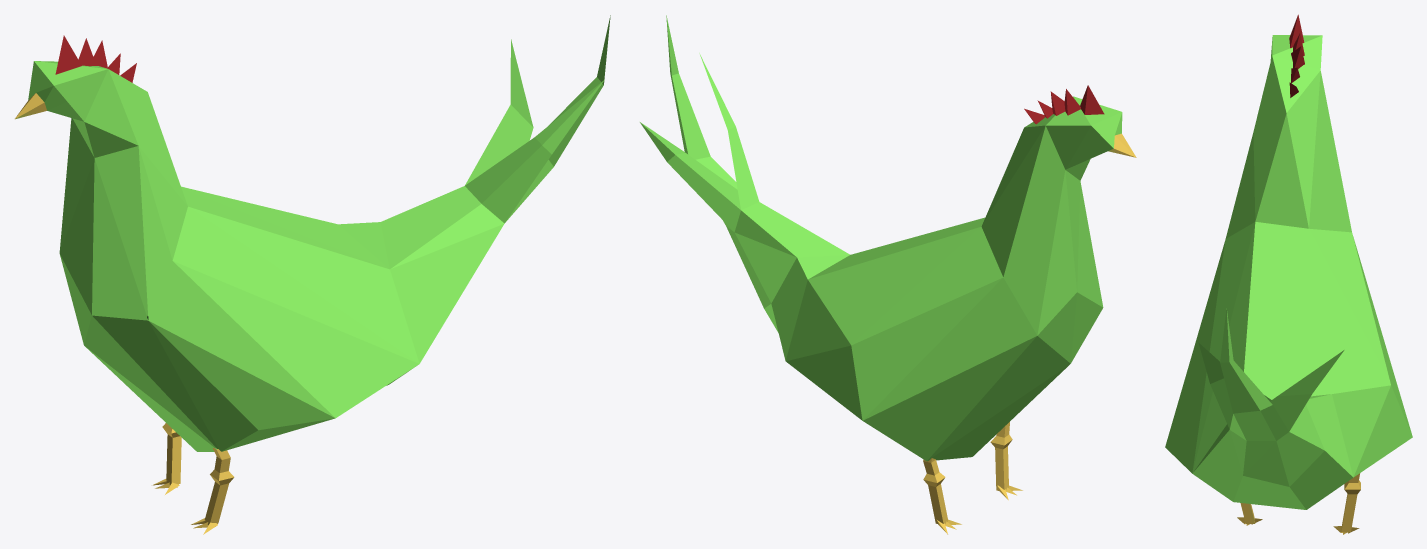
Rendered from chicken_model 1.fbx.
3 renders of one model, left to right at view 1: azimuth 30°, elevation 25°; view 2: azimuth 150°, elevation 25°; view 3: azimuth 270°, elevation 25°, orthographic. The views are drawn at different scales.
Parts seen in each view (by area): view 1: chicken assembled; view 2: chicken assembled; view 3: chicken assembled.
Part boxes in pixels (box(x1,y1,x2,y2)): chicken assembled: box(15, 15, 610, 534); chicken assembled: box(640, 15, 1136, 534); chicken assembled: box(1165, 14, 1412, 534).
Bounding box in the file's own units: 1.74 × 1.5 × 0.7328.
1 material, 1 textured.
